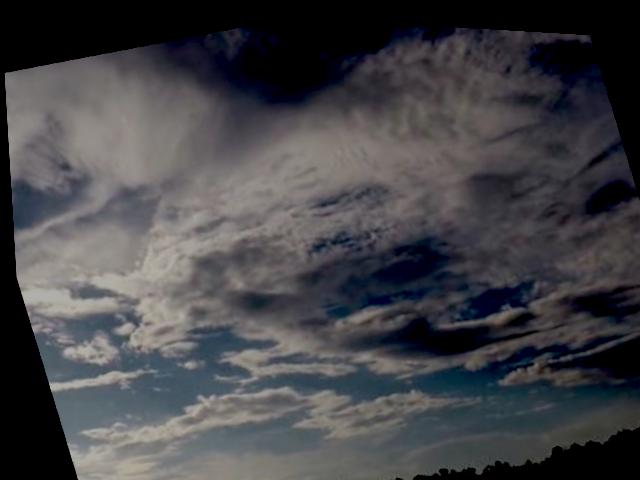uav: (254, 53, 285, 85)
